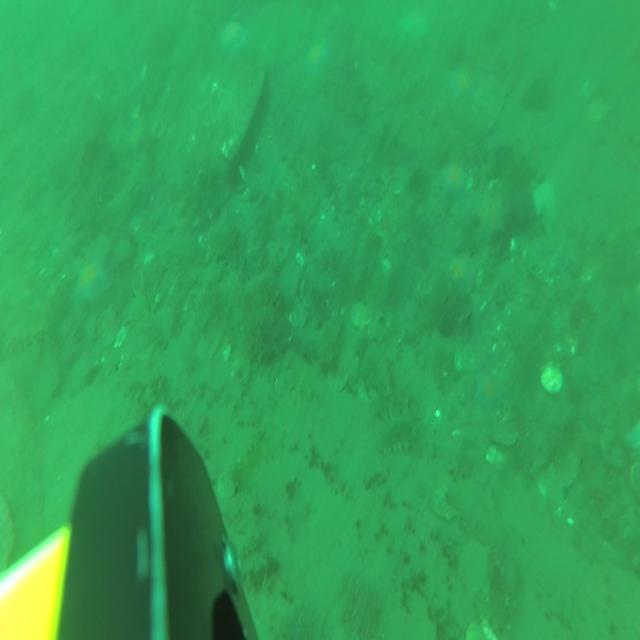holothurian: (377, 402, 421, 458)
scallop: (458, 538, 490, 592), (554, 441, 582, 487), (590, 391, 617, 429), (602, 428, 628, 467), (529, 428, 549, 467), (540, 362, 563, 394), (493, 418, 519, 446), (466, 618, 498, 640), (230, 358, 252, 387), (329, 365, 347, 396), (351, 300, 369, 330)
starfish: (478, 196, 508, 246), (76, 261, 109, 302), (448, 252, 478, 297), (476, 370, 502, 417), (440, 159, 469, 201), (534, 177, 559, 222), (304, 41, 329, 78), (401, 9, 431, 39), (451, 67, 474, 105), (221, 21, 248, 53), (626, 418, 640, 458)
